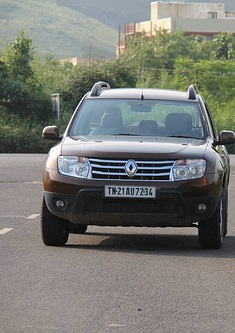TN21AU7234: (104, 185, 155, 197)
